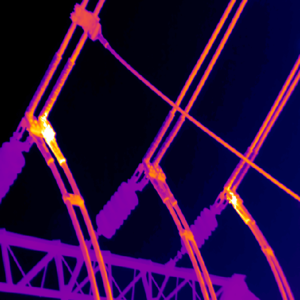insulator: (94, 180, 140, 239), (180, 205, 218, 255), (0, 140, 27, 201)
